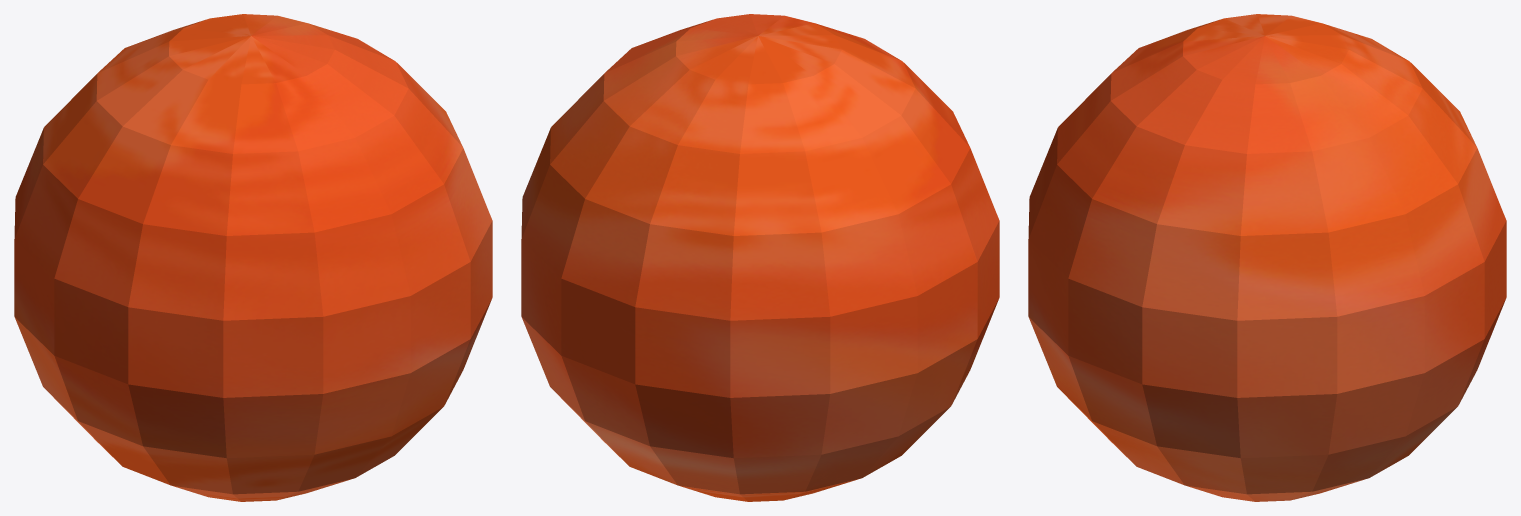
The model's file is tinyredorange.fbx.
3 views of the same model, side by side, from view 1: azimuth 30°, elevation 25°; view 2: azimuth 150°, elevation 25°; view 3: azimuth 270°, elevation 25° (orthographic).
Visible parts, largest first — view 1: Sphere.004; view 2: Sphere.004; view 3: Sphere.004.
Boxes of the visible parts, x1,y1,x2,y2 form: Sphere.004: (14,14,492,501); Sphere.004: (521,14,999,501); Sphere.004: (1028,14,1506,501).
Bounding box in the file's own units: 0.9113 × 0.9305 × 0.9073.
